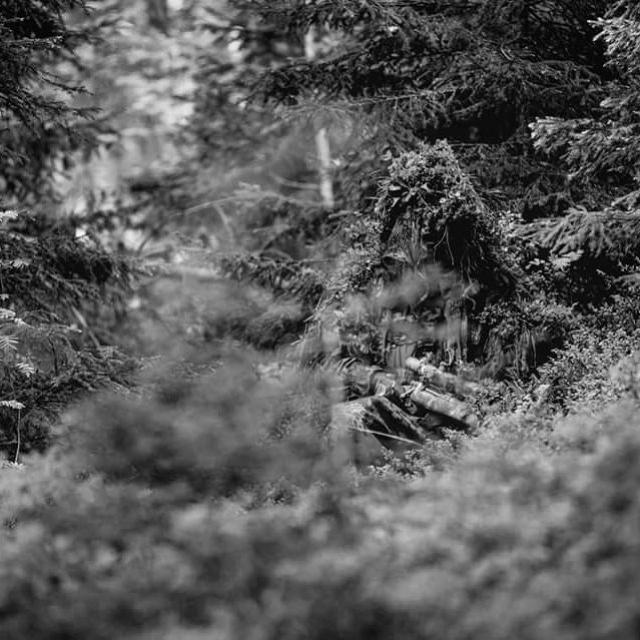Camouflage: (286, 141, 589, 464)
